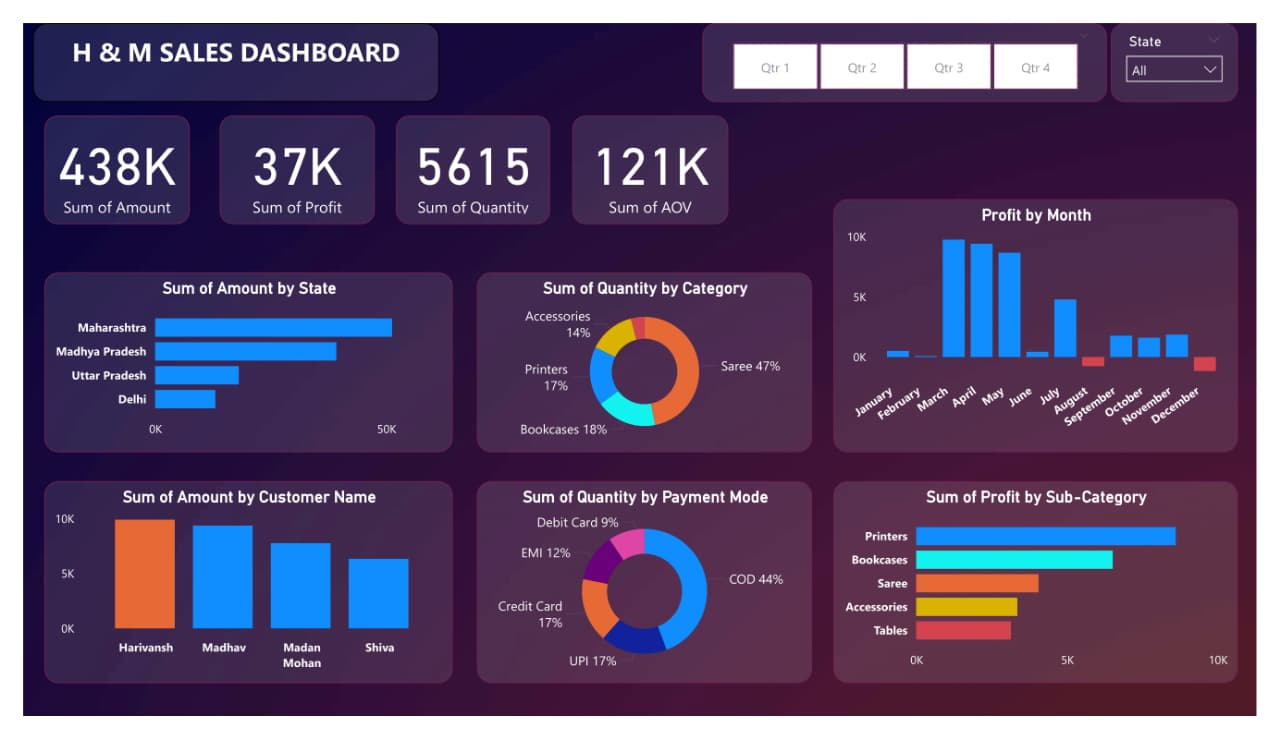

What the dashboard file says about the page in this screenshot:
{"tool":"powerbi","page":{"name":"Page 1","canvas":[1280,720],"ordinal":0},"visuals":[{"type":"textbox","box":[10.1,0,421.6,82.3],"z":0},{"type":"columnChart","title":"Profit by Month","fields":{"Y":["Details.Profit"],"Category":["Orders.Order Date.Variation.Date Hierarchy.Month"]},"box":[841,183.3,420.5,262.4],"z":1000},{"type":"clusteredBarChart","title":"Sum of Profit by Sub-Category","fields":{"Category":["Details.Sub-Category"],"Y":["Details.Profit"]},"box":[841,476,420.5,210.2],"z":2000},{"type":"clusteredBarChart","title":"Sum of Amount by State","fields":{"Y":["Details.Amount"],"Category":["Orders.State"]},"box":[21.9,259,423.9,186.7],"z":3000},{"type":"columnChart","title":"Sum of Amount by Customer Name","fields":{"Y":["Details.Amount"],"Category":["Orders.CustomerName"]},"box":[21.9,476,423.9,210.2],"z":4000},{"type":"donutChart","title":"Sum of Quantity by Category","fields":{"Y":["Details.Quantity"],"Category":["Details.Sub-Category"]},"box":[471,259,348.2,186.7],"z":5000},{"type":"donutChart","title":"Sum of Quantity by Payment Mode","fields":{"Y":["Details.Quantity"],"Category":["Details.PaymentMode"]},"box":[471,476,348.2,210.2],"z":6000},{"type":"card","fields":{"Values":["Details.Amount"]},"box":[21.9,95.9,151.4,112.7],"z":7000},{"type":"card","fields":{"Values":["Details.Profit"]},"box":[203.5,95.9,161.5,112.7],"z":8000},{"type":"card","fields":{"Values":["Details.Quantity"]},"box":[386.9,95.9,159.8,112.7],"z":9000},{"type":"card","fields":{"Values":["Details.AOV"]},"box":[570.2,95.9,161.5,112.7],"z":9001},{"type":"slicer","fields":{"Values":["Orders.Order Date.Variation.Date Hierarchy.Quarter"]},"box":[704.8,0,420.5,82.4],"z":9002},{"type":"slicer","fields":{"Values":["Orders.State"]},"box":[1128.6,0,132.9,82.4],"z":9003}]}

Visuals, with their boxes in screenshot pixels (x1, y1, x2, y2), scaled from the page's 1280x720 canvas onto the 1280x739 screenshot:
textbox: (x1=10, y1=0, x2=432, y2=84)
"Profit by Month" columnChart: (x1=841, y1=188, x2=1262, y2=457)
"Sum of Profit by Sub-Category" clusteredBarChart: (x1=841, y1=489, x2=1262, y2=704)
"Sum of Amount by State" clusteredBarChart: (x1=22, y1=266, x2=446, y2=457)
"Sum of Amount by Customer Name" columnChart: (x1=22, y1=489, x2=446, y2=704)
"Sum of Quantity by Category" donutChart: (x1=471, y1=266, x2=819, y2=457)
"Sum of Quantity by Payment Mode" donutChart: (x1=471, y1=489, x2=819, y2=704)
card - Details.Amount: (x1=22, y1=98, x2=173, y2=214)
card - Details.Profit: (x1=204, y1=98, x2=365, y2=214)
card - Details.Quantity: (x1=387, y1=98, x2=547, y2=214)
card - Details.AOV: (x1=570, y1=98, x2=732, y2=214)
slicer - Orders.Order Date.Variation.Date Hierarchy.Quarter: (x1=705, y1=0, x2=1125, y2=85)
slicer - Orders.State: (x1=1129, y1=0, x2=1262, y2=85)
